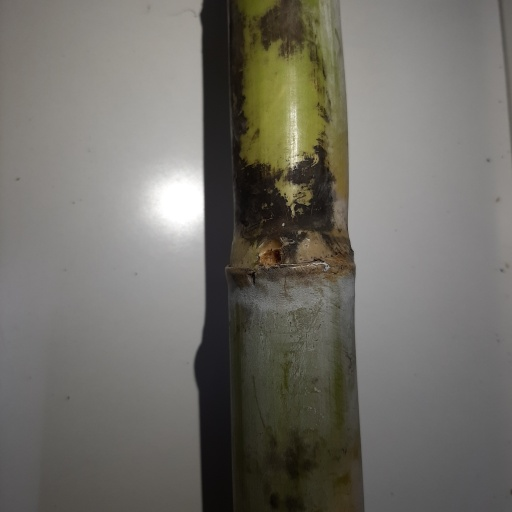Damage_Bud: (258, 239, 282, 268)
